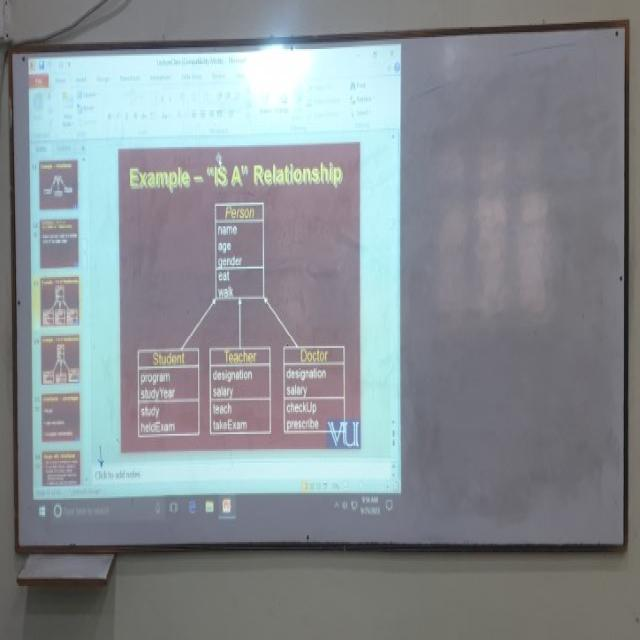Slide: (29, 42, 402, 537)
White-board: (13, 22, 630, 553)
